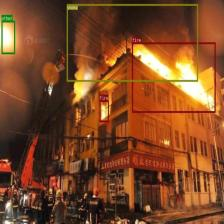fire: (132, 42, 215, 112), (99, 100, 109, 122)
smoke: (66, 4, 198, 82)
